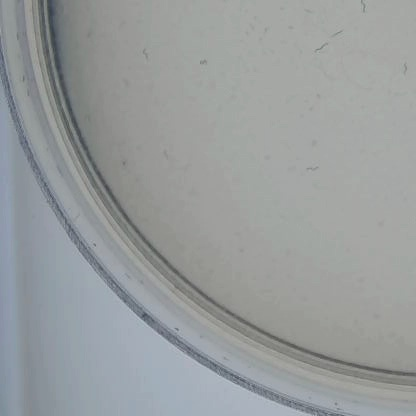worm: (191, 53, 214, 72), (157, 147, 176, 169), (395, 56, 411, 78), (349, 0, 368, 17), (332, 21, 346, 44), (300, 161, 326, 173), (311, 40, 330, 55), (139, 45, 152, 66), (304, 8, 321, 21)
